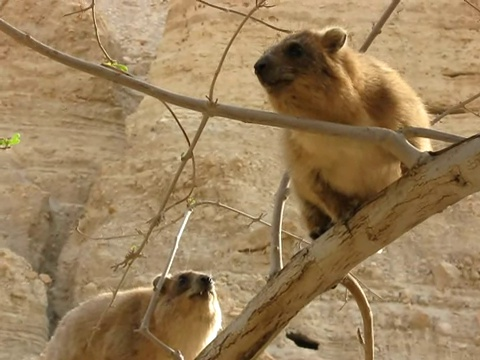Rock Hyrex: (252, 25, 435, 238), (29, 268, 223, 360)
